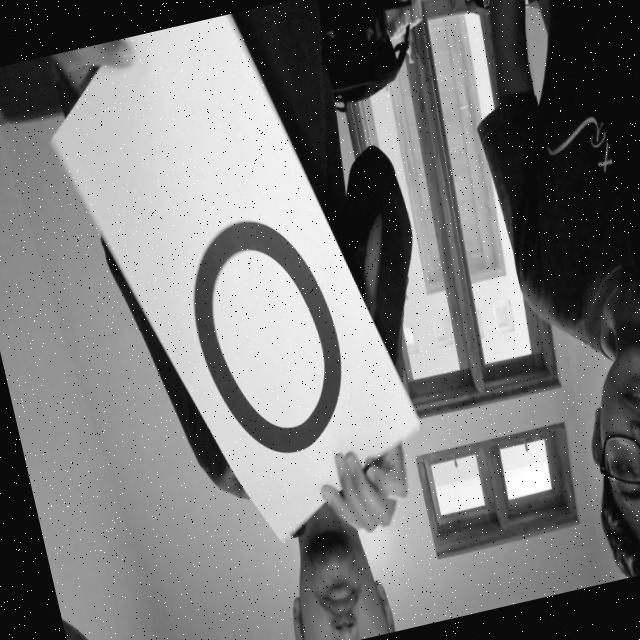o: (153, 184, 375, 506)
